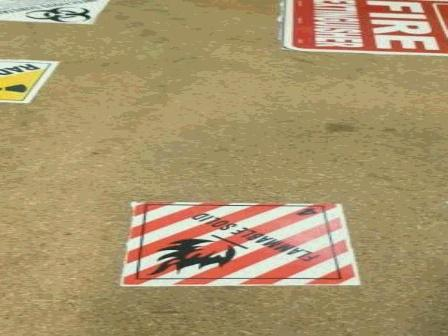flammable-solid: (120, 203, 353, 286)
infectious-substance: (1, 1, 105, 24)
radioactive: (1, 59, 61, 104)
